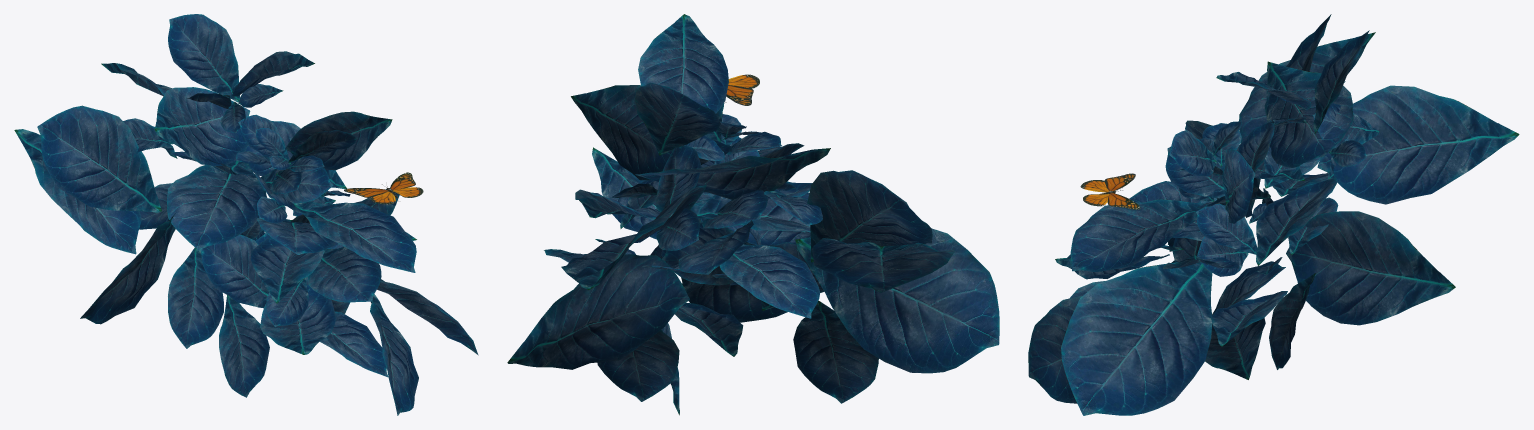
File: butterfly-orange-instances-transformed.glb
3 views of the same model, side by side, from view 1: azimuth 30°, elevation 25°; view 2: azimuth 150°, elevation 25°; view 3: azimuth 270°, elevation 25° (orthographic). The views are drawn at different scales.
Visible parts, largest first — view 1: leaf.024, leaf.007, leaf, leaf.039, leaf.036, leaf.046, leaf.054, leaf.047, leaf.045, leaf.018, leaf.001, leaf.050 (+21 smaller); view 2: leaf.045, leaf.044, leaf.024, leaf.013, leaf.047, leaf.054, leaf.050, leaf.008, leaf.039, leaf.036, leaf.048, leaf.055 (+15 smaller); view 3: leaf.031, leaf.055, leaf.044, leaf, leaf.039, leaf.052, leaf.014, leaf.040, leaf.048, leaf.054, leaf.036, leaf.017 (+22 smaller).
Part boxes in pixels (<box>): leaf.024: <box>37,105,161,212</box>; leaf.007: <box>167,160,263,250</box>; leaf: <box>294,201,416,272</box>; leaf.039: <box>155,87,250,165</box>; leaf.036: <box>168,14,239,102</box>; leaf.046: <box>168,247,223,348</box>; leaf.054: <box>14,129,140,254</box>; leaf.047: <box>219,295,269,397</box>; leaf.045: <box>80,213,175,324</box>; leaf.018: <box>200,234,268,308</box>; leaf.001: <box>307,246,381,302</box>; leaf.050: <box>286,111,392,170</box>; leaf.045: <box>795,228,999,373</box>; leaf.044: <box>507,254,689,369</box>; leaf.024: <box>807,170,932,262</box>; leaf.013: <box>638,14,728,113</box>; leaf.047: <box>793,300,878,403</box>; leaf.054: <box>812,238,955,292</box>; leaf.050: <box>571,85,671,180</box>; leaf.008: <box>719,244,820,318</box>; leaf.039: <box>635,148,830,199</box>; leaf.036: <box>634,82,720,155</box>; leaf.048: <box>597,330,679,401</box>; leaf.055: <box>561,184,706,289</box>; leaf.031: <box>1061,262,1212,415</box>; leaf.055: <box>1317,85,1519,204</box>; leaf.044: <box>1286,211,1455,325</box>; leaf: <box>1070,199,1205,271</box>; leaf.039: <box>1266,61,1353,167</box>; leaf.052: <box>1028,296,1081,403</box>; leaf.014: <box>1256,177,1337,265</box>; leaf.040: <box>1205,318,1265,379</box>; leaf.048: <box>1269,273,1315,369</box>; leaf.054: <box>1239,32,1375,143</box>; leaf.036: <box>1313,30,1369,133</box>; leaf.017: <box>1196,203,1257,254</box>.
Size of the model in its own units: 18.87 by 16.09 by 22.2.
2 materials, 2 textured.
